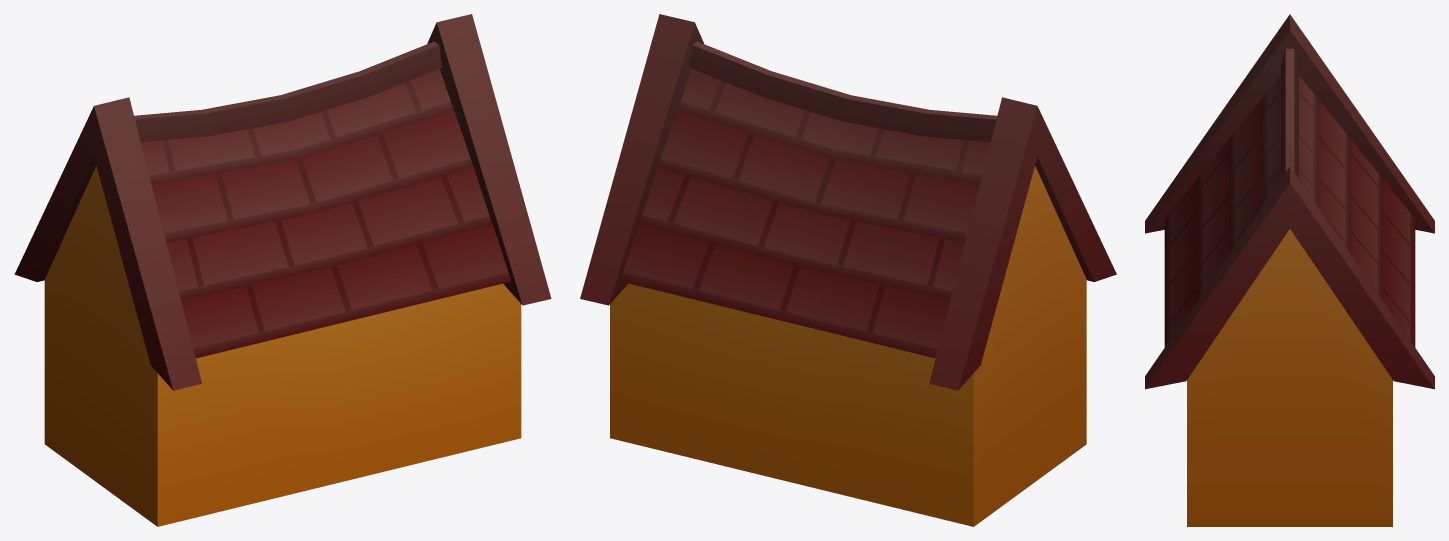
Rendered from Building_Main_01A.fbx.
3 renders of one model, left to right at view 1: azimuth 30°, elevation 25°; view 2: azimuth 150°, elevation 25°; view 3: azimuth 270°, elevation 25°, orthographic. The views are drawn at different scales.
Parts seen in each view (by area): view 1: Building_Main_01A; view 2: Building_Main_01A; view 3: Building_Main_01A.
Part boxes in pixels (box(x1,y1,x2,y2)): Building_Main_01A: box(14, 14, 551, 526); Building_Main_01A: box(580, 14, 1116, 526); Building_Main_01A: box(1145, 14, 1434, 526).
Size of the model in its own units: 682 by 658 by 496.
Materials: 2 (2 with a texture image).
